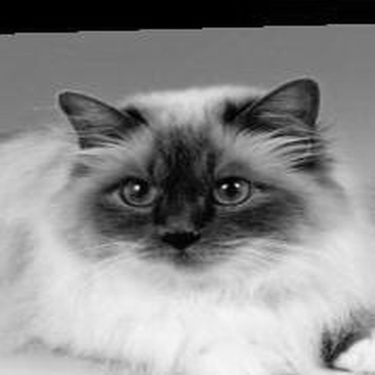cat: (6, 76, 365, 371)
